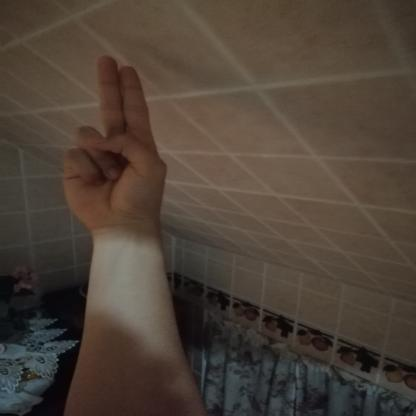TA: (35, 43, 204, 241)
